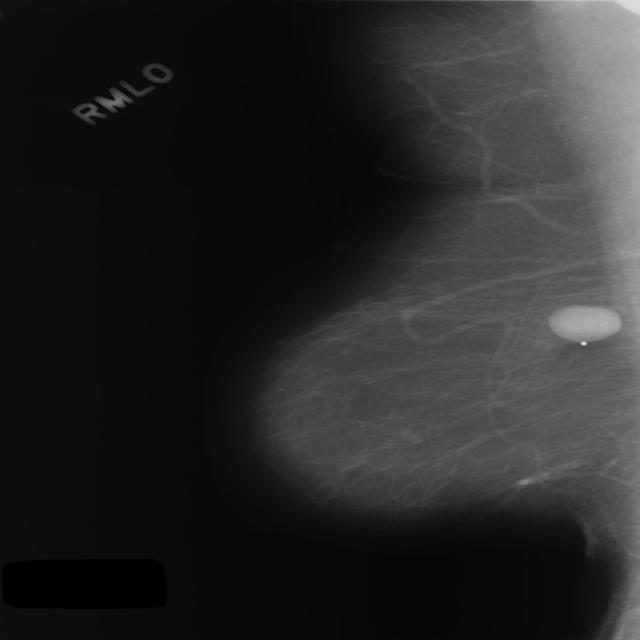tumour: (546, 304, 620, 341)
